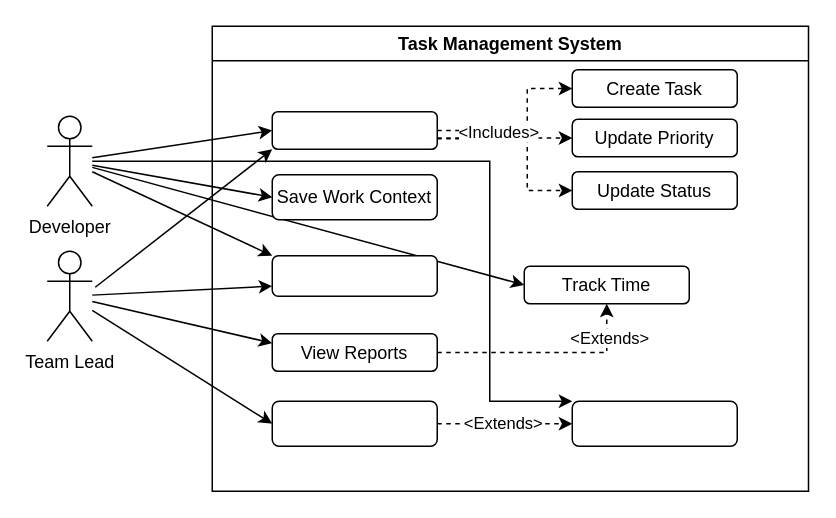
Some shapes in this 836 by 518 pixel diagram are drawn without their labels. Here are the shapes that lost their labels. From the top down, the centre of each, then its label:
point (354, 129): Manage Tasks
point (354, 275): User Authentication
point (354, 423): Set Team Working Session
point (654, 423): Start a Pomodoro Work Session
